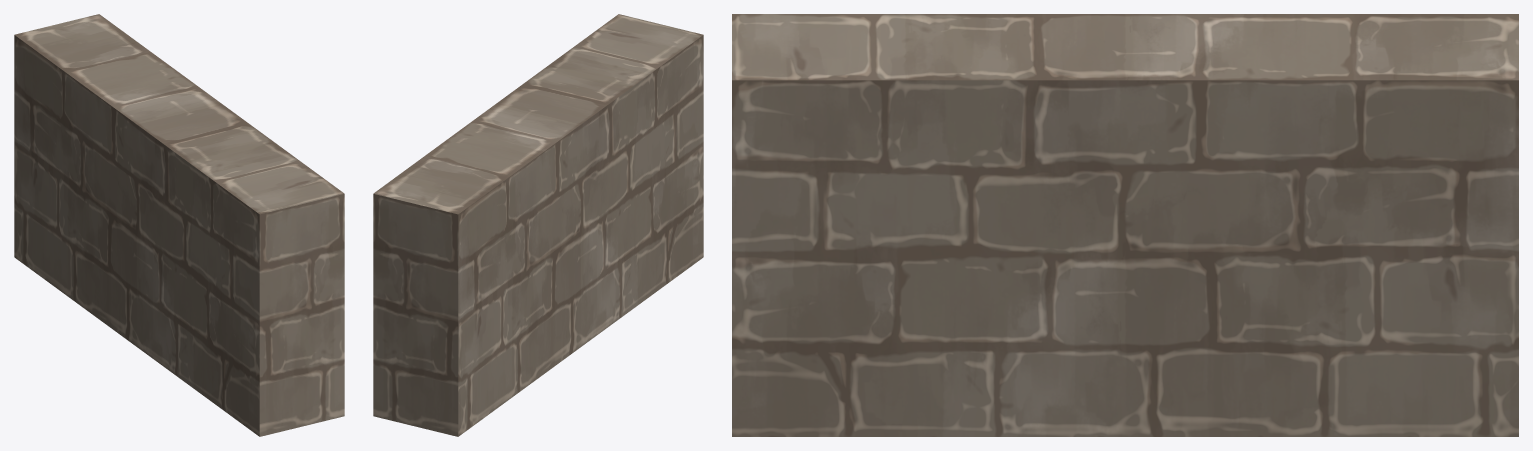
The model's file is stairs_exterior_single_side_thick.gltf.
3 views of the same model, side by side, from view 1: azimuth 30°, elevation 25°; view 2: azimuth 150°, elevation 25°; view 3: azimuth 270°, elevation 25° (orthographic). The views are drawn at different scales.
Parts seen in each view (by area): view 1: Stairs_Exterior_SingleSideThick; view 2: Stairs_Exterior_SingleSideThick; view 3: Stairs_Exterior_SingleSideThick.
Boxes of the visible parts, <box> form: Stairs_Exterior_SingleSideThick: <box>14,14,344,436</box>; Stairs_Exterior_SingleSideThick: <box>373,14,703,436</box>; Stairs_Exterior_SingleSideThick: <box>732,14,1518,436</box>.
Size of the model in its own units: 0.4 by 1 by 2.
Materials: 1 (1 with a texture image).
